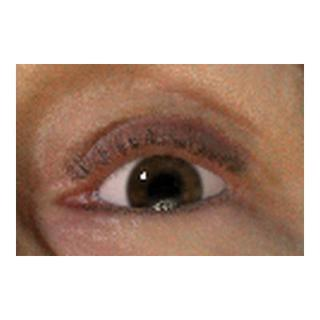pupil: (148, 174, 180, 205)
